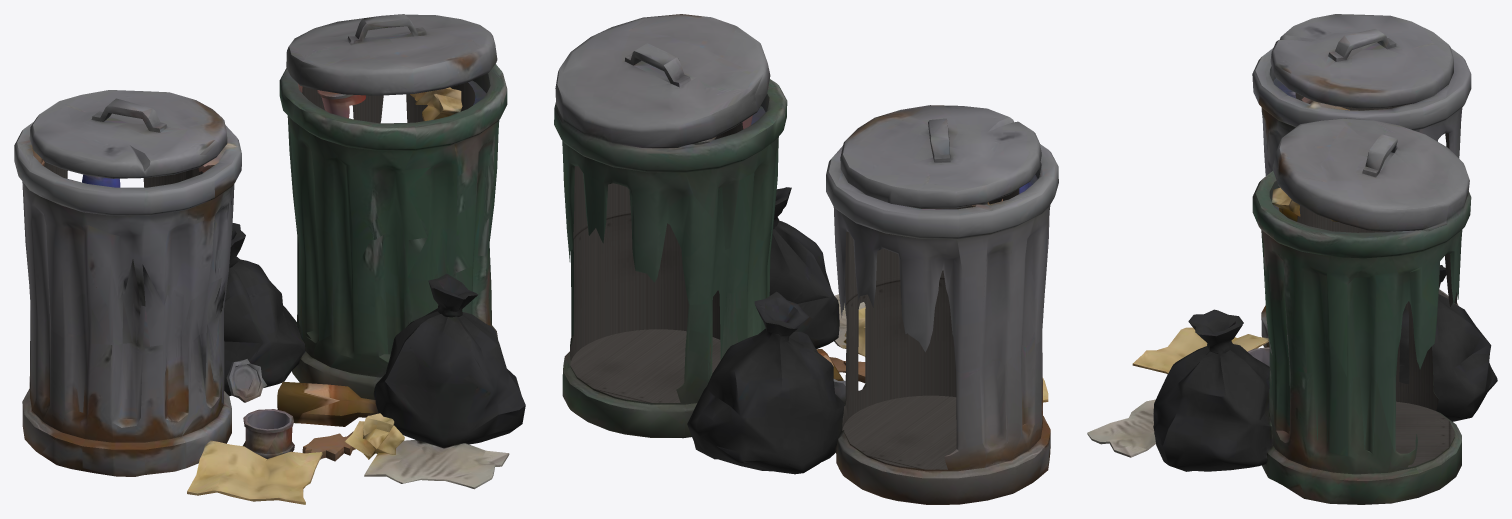
Rendered from isle_trash_bins.glb.
3 renders of one model, left to right at view 1: azimuth 30°, elevation 25°; view 2: azimuth 150°, elevation 25°; view 3: azimuth 270°, elevation 25°, orthographic. The views are drawn at different scales.
Parts seen in each view (by area): view 1: body, lid_l, lid_r; view 2: body, lid_r, lid_l; view 3: body, lid_r, lid_l.
Part boxes in pixels (bbox=[...]): body: bbox=[14, 64, 525, 504]; lid_l: bbox=[16, 90, 240, 194]; lid_r: bbox=[286, 14, 497, 111]; body: bbox=[554, 79, 1058, 504]; lid_r: bbox=[555, 14, 770, 146]; lid_l: bbox=[827, 105, 1057, 217]; body: bbox=[1087, 59, 1497, 504]; lid_r: bbox=[1272, 118, 1469, 231]; lid_l: bbox=[1254, 14, 1469, 117].
Size of the model in its own units: 1.6 by 1.14 by 1.3.
3 materials, 3 textured.
